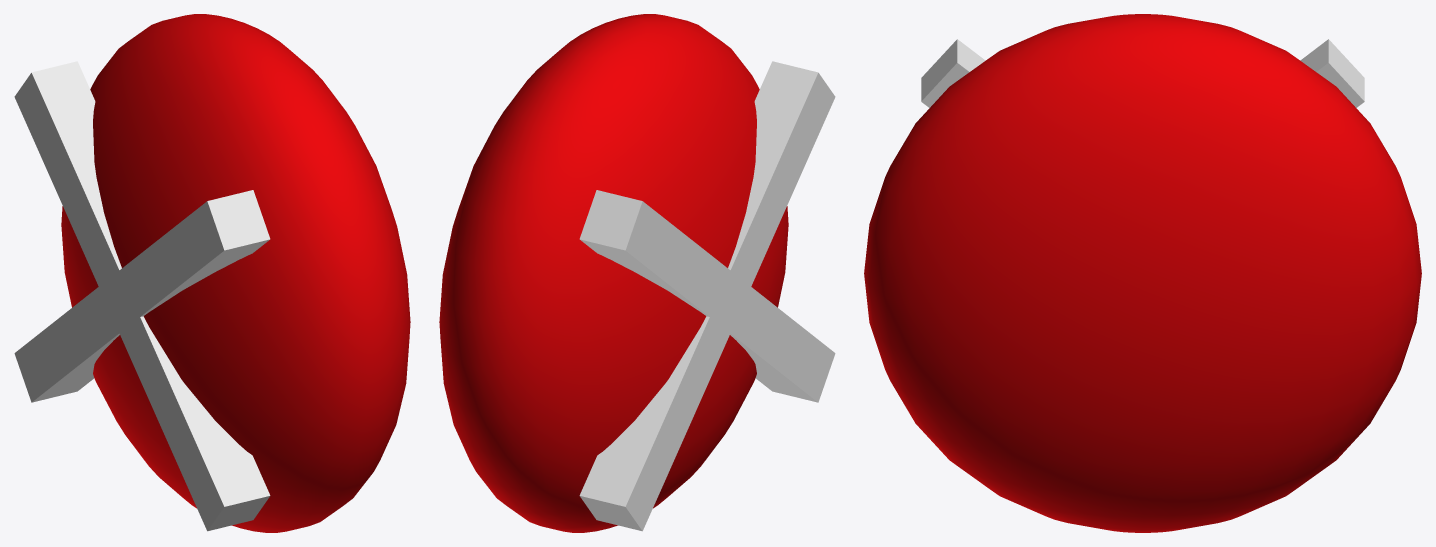
Rendered from XFinal.fbx.
The picture shows the model from 3 angles, left to right: view 1: azimuth 30°, elevation 25°; view 2: azimuth 150°, elevation 25°; view 3: azimuth 270°, elevation 25°; orthographic projection. The views are drawn at different scales.
Parts seen in each view (by area): view 1: Sphere.003; view 2: Sphere.003; view 3: Sphere.003.
Part boxes in pixels (bbox=[...]): Sphere.003: bbox=[14, 14, 410, 532]; Sphere.003: bbox=[439, 14, 835, 532]; Sphere.003: bbox=[864, 14, 1421, 532].
Size of the model in its own units: 240 by 475 by 475.
